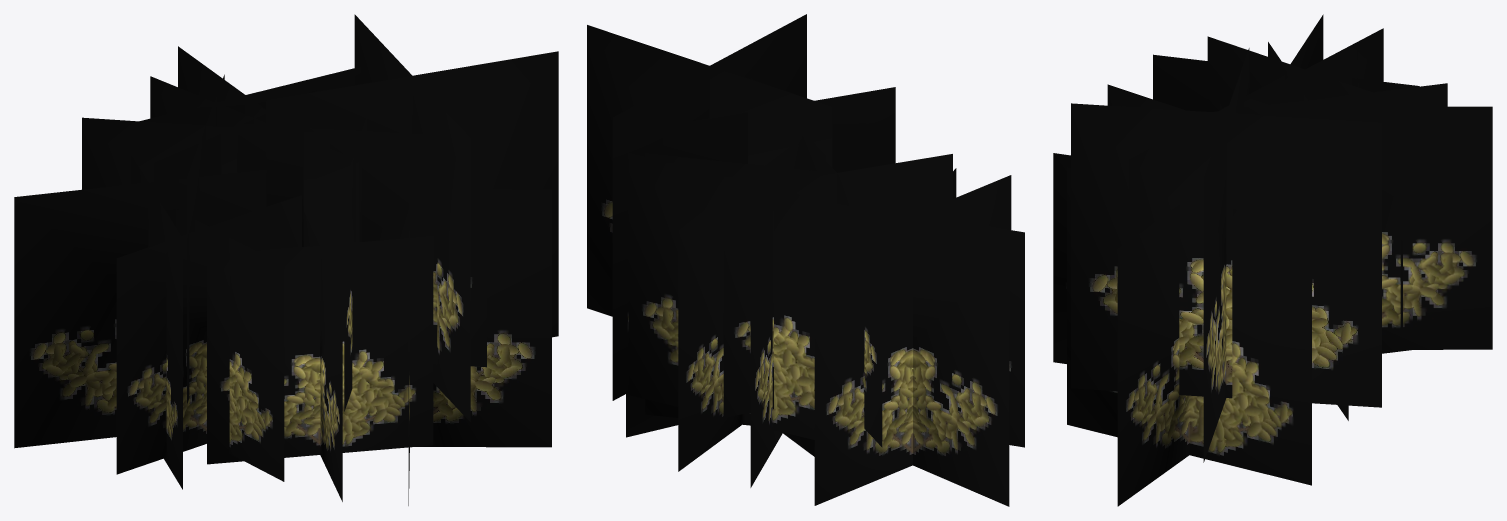
File: bush0_dry.fbx
3 views of the same model, side by side, from view 1: azimuth 30°, elevation 25°; view 2: azimuth 150°, elevation 25°; view 3: azimuth 270°, elevation 25° (orthographic).
Visible parts, largest first — view 1: bush0_dry; view 2: bush0_dry; view 3: bush0_dry.
Boxes of the visible parts, box(x1,y1,x2,y2) form: bush0_dry: box(14, 14, 558, 505); bush0_dry: box(587, 14, 1024, 506); bush0_dry: box(1053, 14, 1492, 506).
Size of the model in its own units: 2.3 by 1.6 by 1.81.
Materials: 1 (1 with a texture image).
